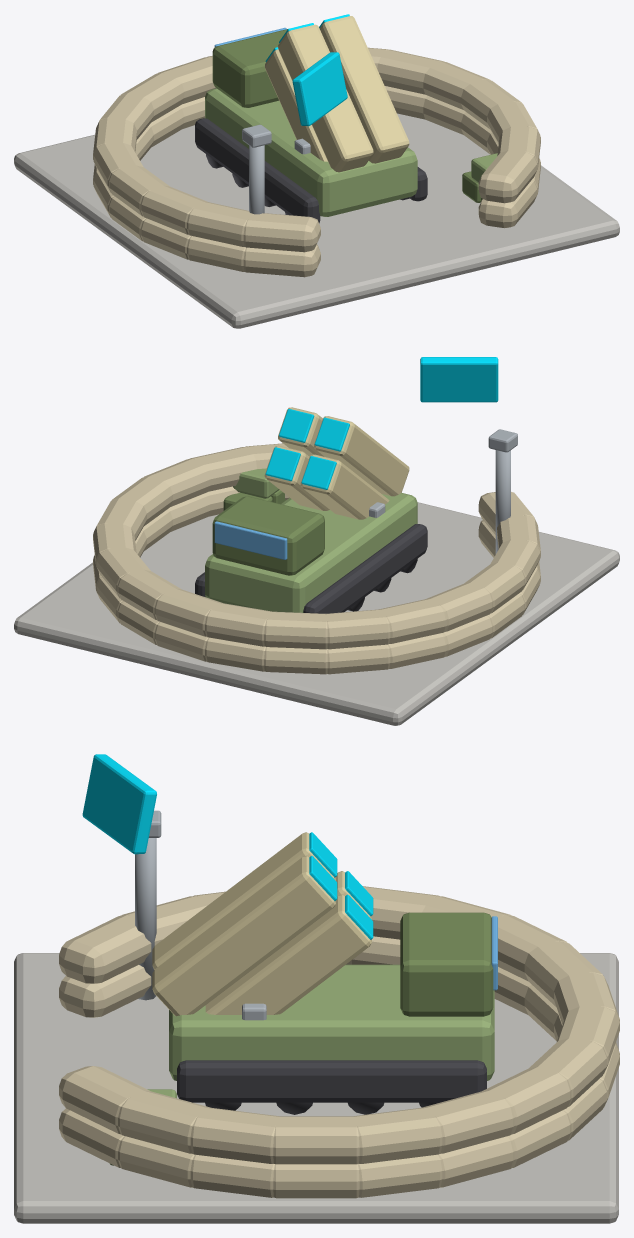
The model's file is def_hisara.glb.
The picture shows the model from 3 angles, top to bottom: view 1: azimuth 30°, elevation 25°; view 2: azimuth 150°, elevation 25°; view 3: azimuth 270°, elevation 25°; orthographic projection. The views are drawn at different scales.
Parts seen in each view (by area): view 1: Cube, Cube.037, Cube.049, Cube.045, Cube.040, Cube.038, Cube.051, Cube.030, Cube.032, Cube.028, Cube.029, Cube.043 (+23 smaller); view 2: Cube, Cube.037, Cube.040, Cube.038, Cube.051, Cube.045, Cube.043, Cube.016, Cube.018, Cube.014, Cube.020, Cube.012 (+33 smaller); view 3: Cube, Cube.037, Cube.039, Cube.049, Cube.040, Cube.047, Cube.051, Cube.030, Cube.002, Cube.036, Cube.004, Cube.045 (+25 smaller).
Part boxes in pixels (x1=…): Cube: x1=14, y1=113, x2=619, y2=328; Cube.037: x1=205, y1=88, x2=417, y2=216; Cube.049: x1=319, y1=16, x2=409, y2=163; Cube.045: x1=278, y1=24, x2=373, y2=172; Cube.040: x1=212, y1=29, x2=287, y2=107; Cube.038: x1=195, y1=118, x2=320, y2=223; Cube.051: x1=292, y1=52, x2=347, y2=126; Cube.030: x1=243, y1=213, x2=320, y2=252; Cube.032: x1=478, y1=149, x2=537, y2=203; Cube.028: x1=187, y1=201, x2=253, y2=246; Cube.029: x1=243, y1=244, x2=320, y2=277; Cube.043: x1=264, y1=49, x2=327, y2=161; Cube: x1=14, y1=502, x2=619, y2=725; Cube.037: x1=205, y1=493, x2=417, y2=612; Cube.040: x1=212, y1=496, x2=324, y2=575; Cube.038: x1=303, y1=524, x2=427, y2=613; Cube.051: x1=420, y1=357, x2=498, y2=402; Cube.045: x1=314, y1=416, x2=409, y2=496; Cube.043: x1=300, y1=454, x2=389, y2=519; Cube.016: x1=264, y1=611, x2=328, y2=649; Cube.018: x1=325, y1=609, x2=390, y2=649; Cube.014: x1=205, y1=603, x2=272, y2=646; Cube.020: x1=378, y1=599, x2=446, y2=643; Cube.012: x1=154, y1=588, x2=222, y2=636; Cube: x1=14, y1=953, x2=618, y2=1223; Cube.037: x1=169, y1=964, x2=494, y2=1080; Cube.039: x1=177, y1=1060, x2=486, y2=1102; Cube.049: x1=152, y1=855, x2=335, y2=1016; Cube.040: x1=400, y1=912, x2=493, y2=1016; Cube.047: x1=205, y1=894, x2=371, y2=1014; Cube.051: x1=82, y1=754, x2=156, y2=854; Cube.030: x1=59, y1=915, x2=151, y2=983; Cube.002: x1=273, y1=1116, x2=359, y2=1164; Cube.036: x1=190, y1=1108, x2=281, y2=1163; Cube.004: x1=353, y1=1107, x2=442, y2=1163; Cube.045: x1=152, y1=832, x2=335, y2=969.
Size of the model in its own units: 1.95 by 0.9978 by 1.95.
